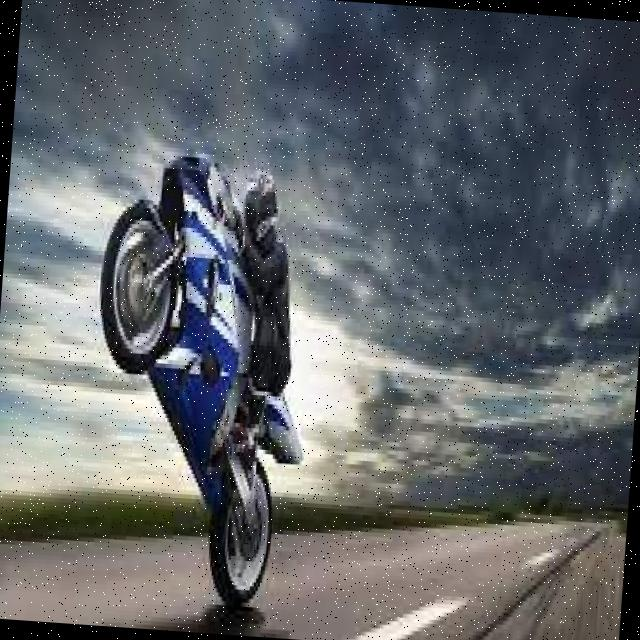Wheeling: (80, 150, 314, 612)
